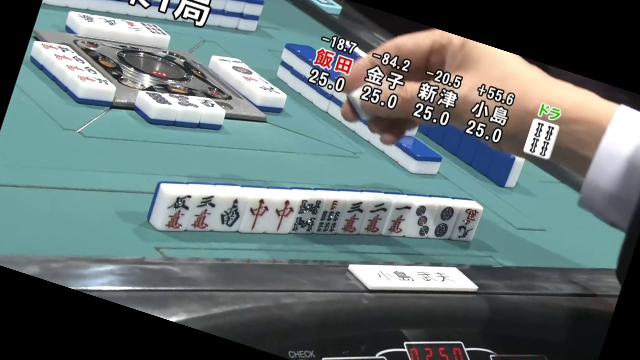Tehai: (142, 174, 485, 245)
